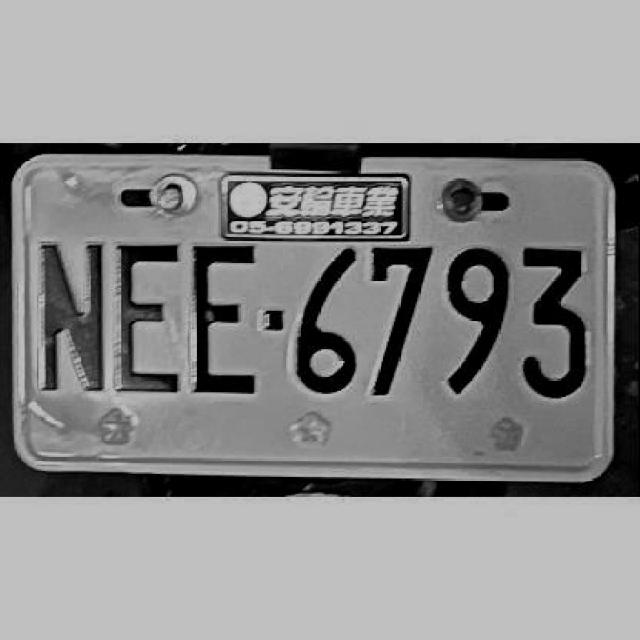-: (266, 305, 286, 329)
3: (517, 242, 589, 404)
6: (290, 242, 364, 400)
7: (370, 246, 436, 400)
9: (442, 245, 516, 392)
E: (184, 237, 253, 395), (111, 235, 180, 392)
N: (34, 234, 111, 392)
